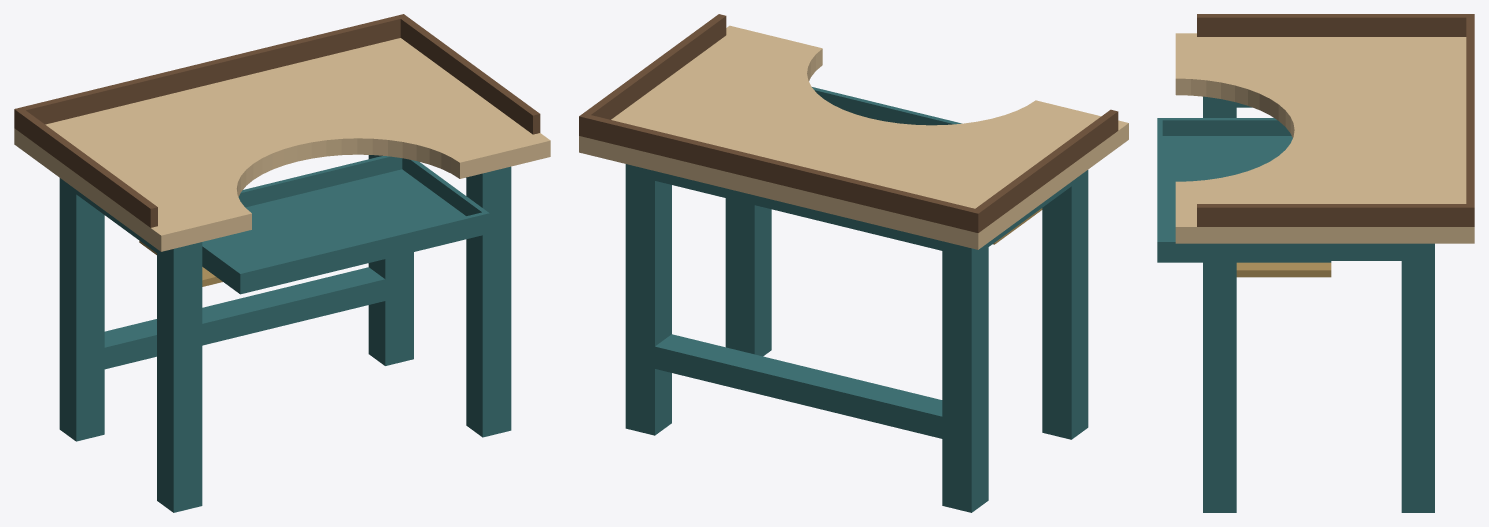
The picture shows the model from 3 angles, left to right: view 1: azimuth 30°, elevation 25°; view 2: azimuth 150°, elevation 25°; view 3: azimuth 270°, elevation 25°; orthographic projection. The views are drawn at different scales.
Visible parts, largest first — view 1: Continuous_RecessFrontWorkboard, Fixed_CompleteShallowCatchTray, Continuous_ThickUBackstop, Left_FrontFullLeg, Left_RearFullLeg, Right_FrontFullLeg, Rear_LowerOpenFrameStretcher, Right_RearFullLeg, Left_UpperSideBeam, Right_UpperSideBeam; view 2: Continuous_RecessFrontWorkboard, Continuous_ThickUBackstop, Left_RearFullLeg, Left_FrontFullLeg, Right_RearFullLeg, Rear_LowerOpenFrameStretcher, Right_FrontFullLeg, Rear_UpperBridgeBeam, Fixed_CompleteShallowCatchTray, Left_UpperSideBeam; view 3: Continuous_RecessFrontWorkboard, Continuous_ThickUBackstop, Fixed_CompleteShallowCatchTray, Right_FrontFullLeg, Right_RearFullLeg, Right_UpperSideBeam, Right_FixedTraySupportRail, Left_FrontFullLeg.
Part boxes in pixels (x1,y1,x2,y2): Continuous_RecessFrontWorkboard: (14, 38, 550, 251); Fixed_CompleteShallowCatchTray: (202, 156, 489, 294); Continuous_ThickUBackstop: (14, 14, 540, 227); Left_FrontFullLeg: (157, 253, 202, 512); Left_RearFullLeg: (59, 182, 104, 441); Right_FrontFullLeg: (466, 178, 511, 437); Rear_LowerOpenFrameStretcher: (104, 267, 385, 369); Right_RearFullLeg: (368, 155, 413, 365); Left_UpperSideBeam: (59, 178, 202, 265); Right_UpperSideBeam: (466, 166, 511, 189); Continuous_RecessFrontWorkboard: (579, 25, 1128, 249); Continuous_ThickUBackstop: (579, 14, 1118, 232); Left_RearFullLeg: (942, 247, 988, 512); Left_FrontFullLeg: (1042, 174, 1088, 439); Right_RearFullLeg: (625, 175, 671, 435); Rear_LowerOpenFrameStretcher: (655, 334, 942, 438); Right_FrontFullLeg: (725, 198, 771, 356); Rear_UpperBridgeBeam: (655, 171, 942, 250); Fixed_CompleteShallowCatchTray: (812, 87, 961, 125); Left_UpperSideBeam: (942, 170, 1088, 259); Continuous_RecessFrontWorkboard: (1175, 33, 1474, 243); Continuous_ThickUBackstop: (1197, 14, 1474, 226); Fixed_CompleteShallowCatchTray: (1157, 118, 1331, 262); Right_FrontFullLeg: (1203, 261, 1236, 512); Right_RearFullLeg: (1401, 261, 1434, 512); Right_UpperSideBeam: (1203, 243, 1434, 260); Right_FixedTraySupportRail: (1236, 262, 1331, 277); Left_FrontFullLeg: (1203, 107, 1236, 117).
Bounding box in the file's own units: 1.5 × 1.15 × 1.04.
